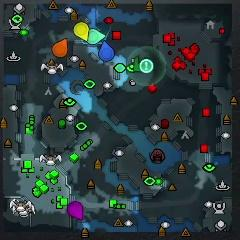Other: (140, 58, 154, 73)
p1: (99, 41, 114, 61)
p2: (87, 29, 106, 44)
p3: (68, 201, 83, 220)
p4: (74, 22, 89, 42)
p5: (52, 38, 68, 57)
x4: (133, 57, 142, 72)
